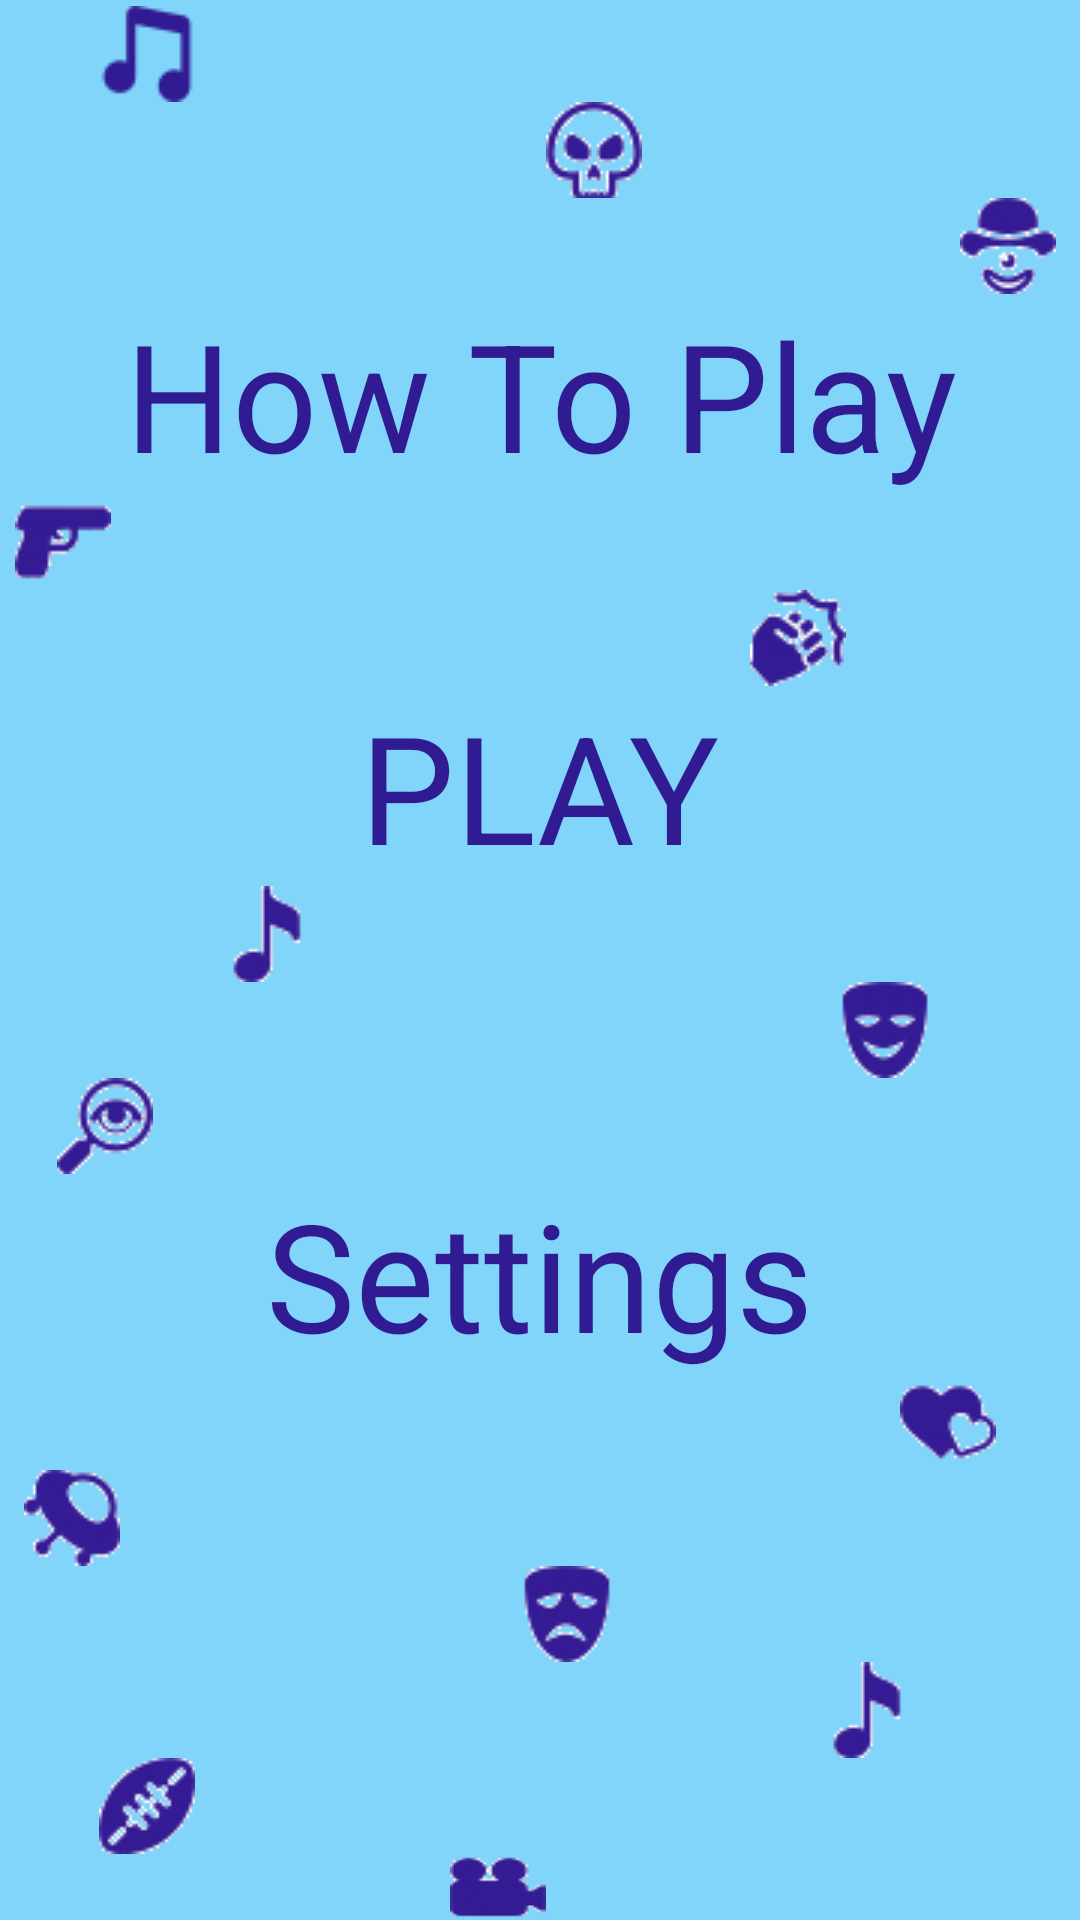

Icons on this 1080 x 1920 Android screen, each with the point to tap as (x,y):
action: (798,638)
camera: (498,1887)
comedy: (1008,246), (885,1030)
crime: (63,542)
detective: (105,1126)
drama: (567,1614)
romantic: (948,1422)
scifi: (72,1518)
sport: (147,1806)
thriller: (594,150)
